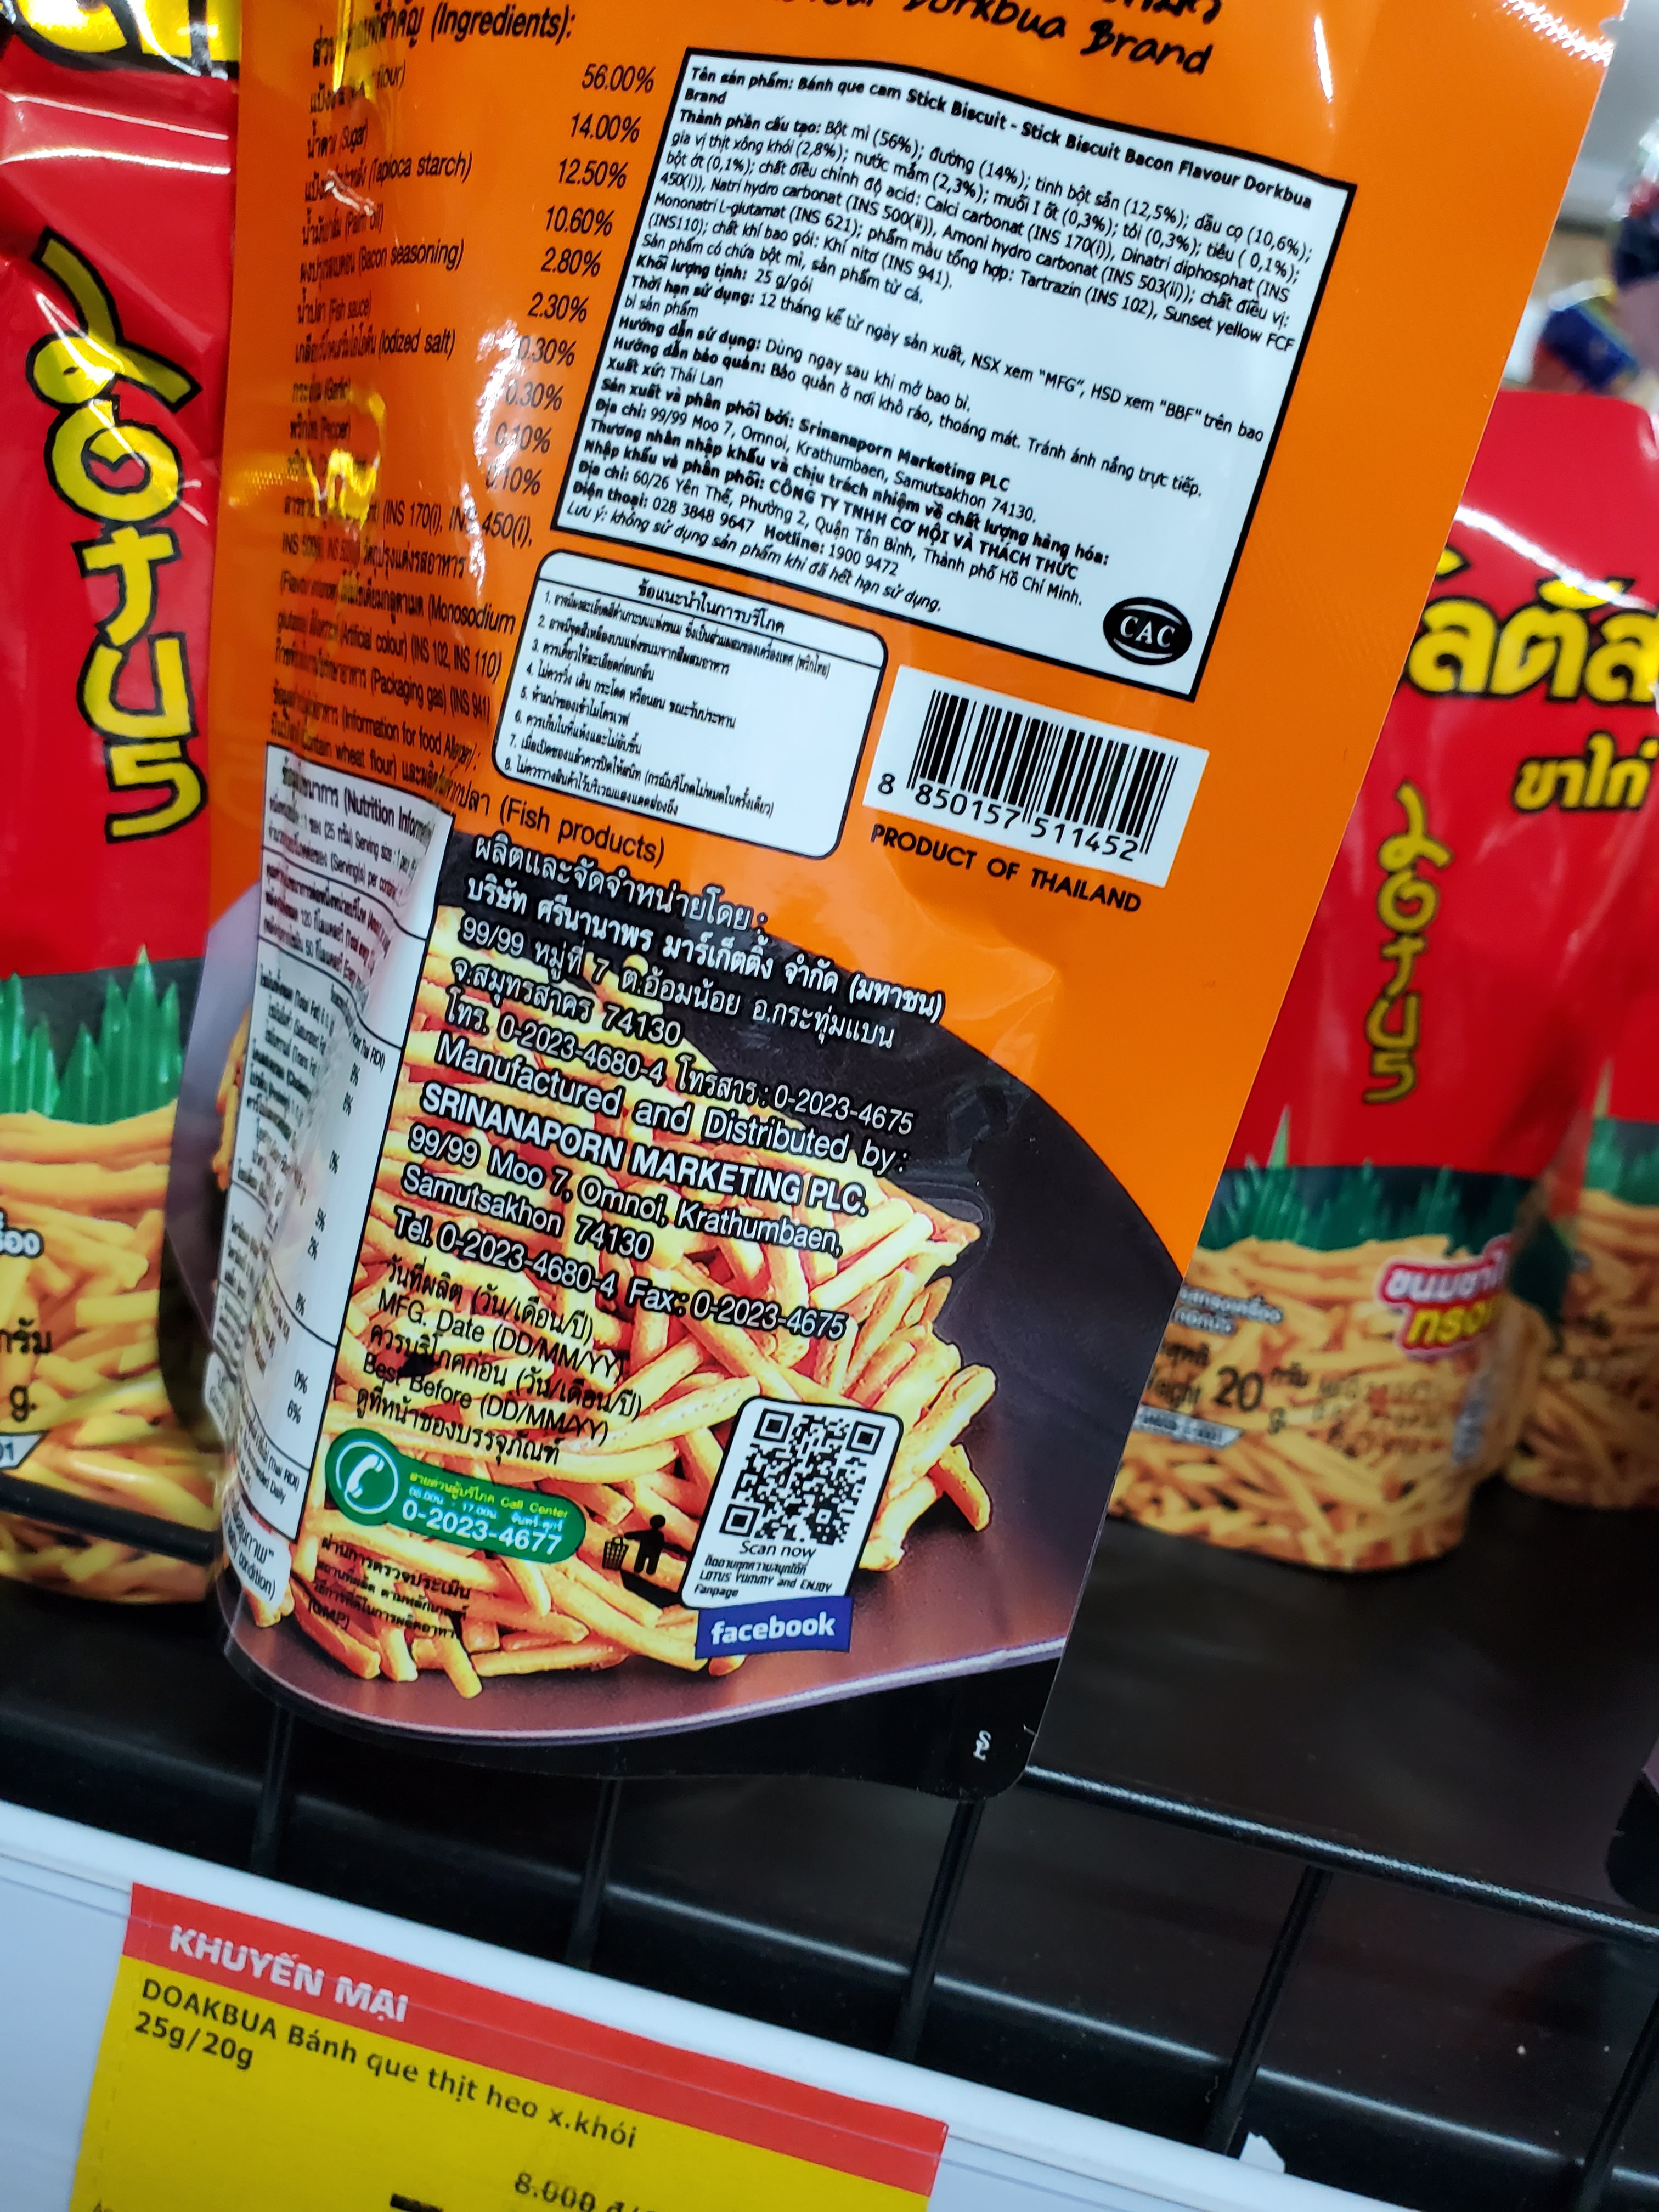barcode: (868, 676, 1201, 883)
qr code: (718, 1399, 892, 1559)
